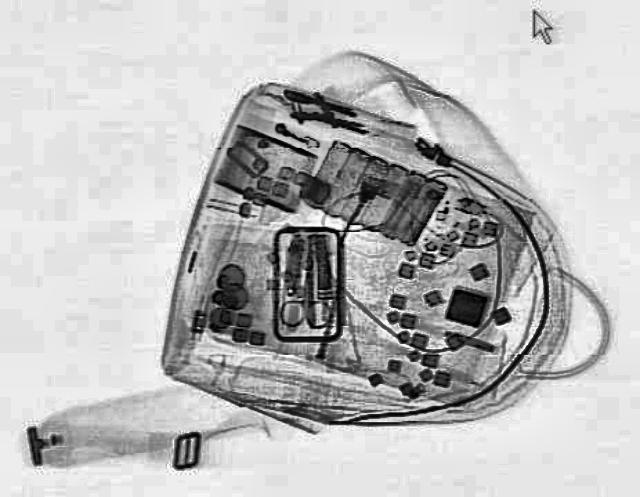Scissors: (276, 244, 336, 326)
